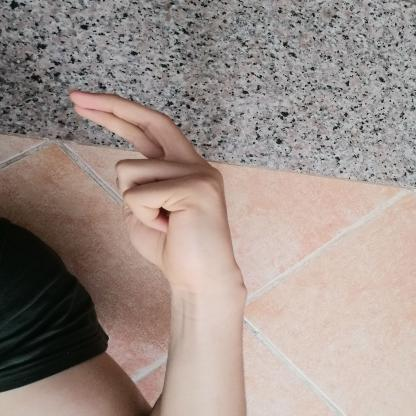ZAY: (53, 83, 253, 298)
